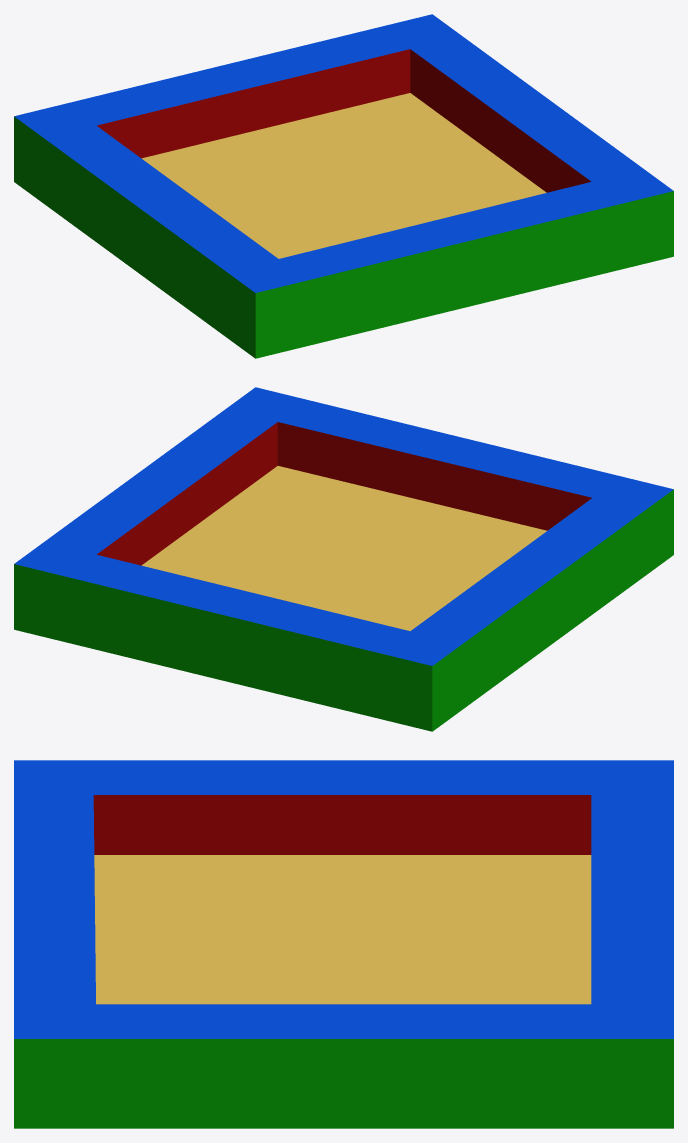
File: Arena_UV.fbx
3 views of the same model, one above another, from view 1: azimuth 30°, elevation 25°; view 2: azimuth 150°, elevation 25°; view 3: azimuth 270°, elevation 25° (orthographic). The views are drawn at different scales.
Parts seen in each view (by area): view 1: pCube1; view 2: pCube1; view 3: pCube1.
Part boxes in pixels (bbox=[...]): pCube1: bbox=[14, 14, 673, 358]; pCube1: bbox=[14, 387, 673, 731]; pCube1: bbox=[14, 760, 673, 1128].
Bounding box in the file's own units: 10 × 1.5 × 10.
